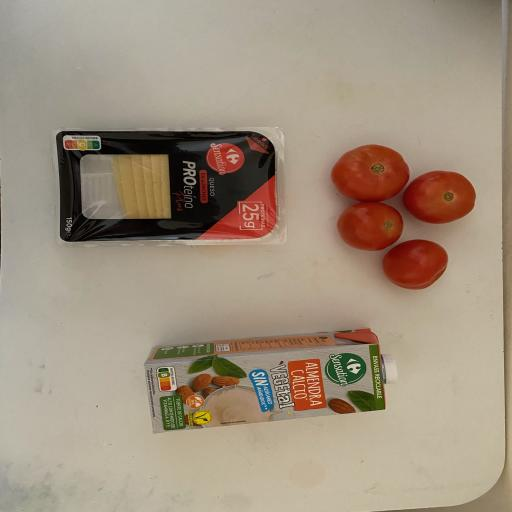cheese: (48, 122, 292, 248)
milk_almendra: (139, 322, 401, 436)
tomato: (331, 142, 412, 202), (402, 168, 480, 226), (380, 236, 450, 292), (331, 201, 406, 253)
